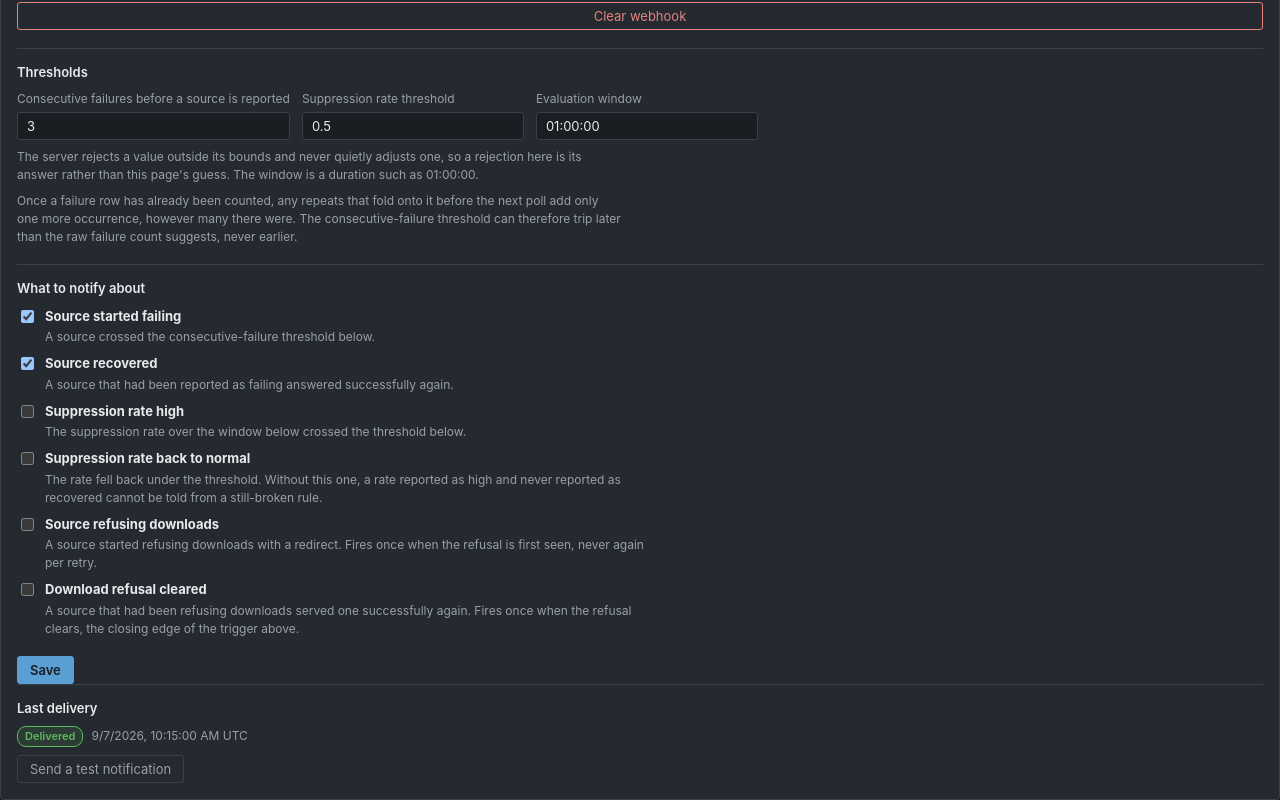
Test: Notifications section › renders Delivered as its own distinct outcome
(page scrolled)
What coordinates should you click on to do the following:
click the button "Send a test notification"
I would click on:
 (101, 768)
Its box is [17,754,184,782].
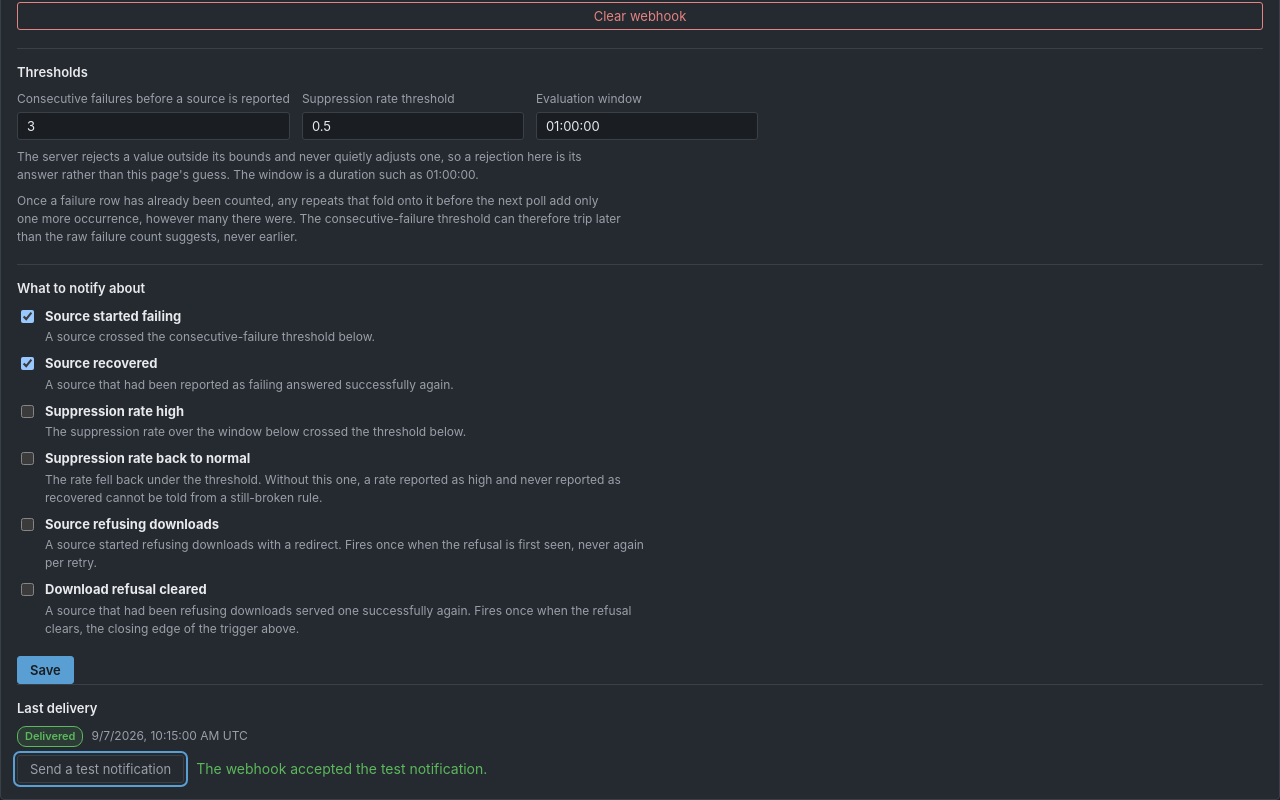
Expected: the text "The webhook accepted the test notification." is shown, [196,758,487,779]
